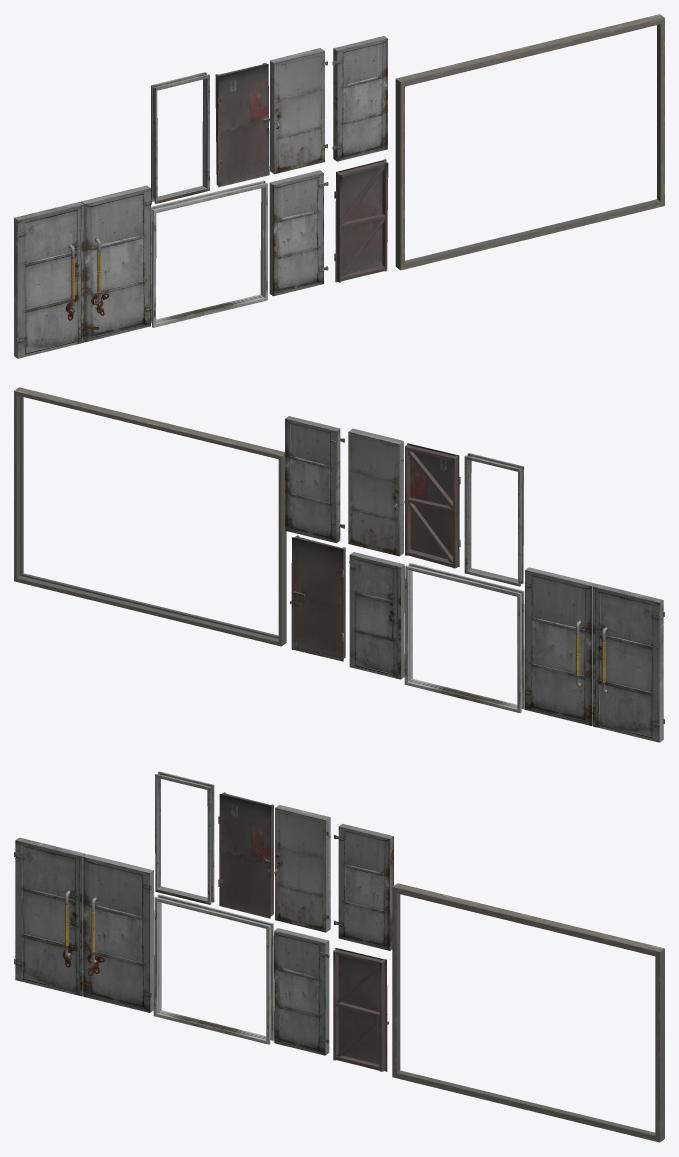
File: DoorsK1.fbx
3 renders of one model, top to bottom at view 1: azimuth 30°, elevation 25°; view 2: azimuth 150°, elevation 25°; view 3: azimuth 330°, elevation 25°, orthographic.
Visible parts, largest first — view 1: SM_Door_3M_A_Hooks.mo, SM_Door_3M_B_Hooks.mo, SM_MetalDoor_Frame_C_LOD0.mo, SM_Door_B.mo, SM_Door_A_02.mo, SM_Door_A_01.mo, SM_Door_C_02.mo, SM_Door_C_01.mo, SM_DoorFrame_A.mo, SM_DoorFrame_B.mo; view 2: SM_Door_3M_A_Hooks.mo, SM_Door_3M_B_Hooks.mo, SM_MetalDoor_Frame_C_LOD0.mo, SM_Door_B.mo, SM_Door_A_01.mo, SM_Door_A_02.mo, SM_Door_C_01.mo, SM_Door_C_02.mo, SM_DoorFrame_A.mo, SM_DoorFrame_B.mo; view 3: SM_Door_3M_B_Hooks.mo, SM_Door_3M_A_Hooks.mo, SM_MetalDoor_Frame_C_LOD0.mo, SM_Door_B.mo, SM_Door_A_02.mo, SM_Door_A_01.mo, SM_Door_C_02.mo, SM_Door_C_01.mo, SM_DoorFrame_A.mo, SM_DoorFrame_B.mo.
Boxes of the visible parts, left/top/right/bottom form: SM_Door_3M_A_Hooks.mo: left=14, top=202, right=83, bottom=358; SM_Door_3M_B_Hooks.mo: left=81, top=185, right=152, bottom=342; SM_MetalDoor_Frame_C_LOD0.mo: left=395, top=14, right=664, bottom=270; SM_Door_B.mo: left=269, top=48, right=327, bottom=174; SM_Door_A_02.mo: left=269, top=170, right=328, bottom=296; SM_Door_A_01.mo: left=332, top=36, right=387, bottom=161; SM_Door_C_02.mo: left=215, top=63, right=269, bottom=187; SM_Door_C_01.mo: left=334, top=159, right=388, bottom=282; SM_DoorFrame_A.mo: left=151, top=180, right=267, bottom=327; SM_DoorFrame_B.mo: left=151, top=72, right=209, bottom=203; SM_Door_3M_A_Hooks.mo: left=593, top=584, right=664, bottom=742; SM_Door_3M_B_Hooks.mo: left=525, top=567, right=595, bottom=725; SM_MetalDoor_Frame_C_LOD0.mo: left=14, top=387, right=286, bottom=646; SM_Door_B.mo: left=348, top=428, right=404, bottom=556; SM_Door_A_01.mo: left=285, top=416, right=344, bottom=543; SM_Door_A_02.mo: left=349, top=552, right=404, bottom=679; SM_Door_C_01.mo: left=290, top=535, right=345, bottom=661; SM_Door_C_02.mo: left=405, top=443, right=460, bottom=568; SM_DoorFrame_A.mo: left=404, top=563, right=524, bottom=713; SM_DoorFrame_B.mo: left=464, top=453, right=523, bottom=586; SM_Door_3M_B_Hooks.mo: left=80, top=854, right=153, bottom=1012; SM_Door_3M_A_Hooks.mo: left=14, top=837, right=85, bottom=996; SM_MetalDoor_Frame_C_LOD0.mo: left=392, top=883, right=664, bottom=1142; SM_Door_B.mo: left=274, top=805, right=330, bottom=932; SM_Door_A_02.mo: left=274, top=928, right=329, bottom=1055; SM_Door_A_01.mo: left=334, top=823, right=393, bottom=950; SM_Door_C_02.mo: left=218, top=792, right=273, bottom=918; SM_Door_C_01.mo: left=333, top=948, right=388, bottom=1071; SM_DoorFrame_A.mo: left=153, top=894, right=274, bottom=1044; SM_DoorFrame_B.mo: left=155, top=771, right=214, bottom=904.
Size of the model in its own units: 1460 by 520 by 51.67.
